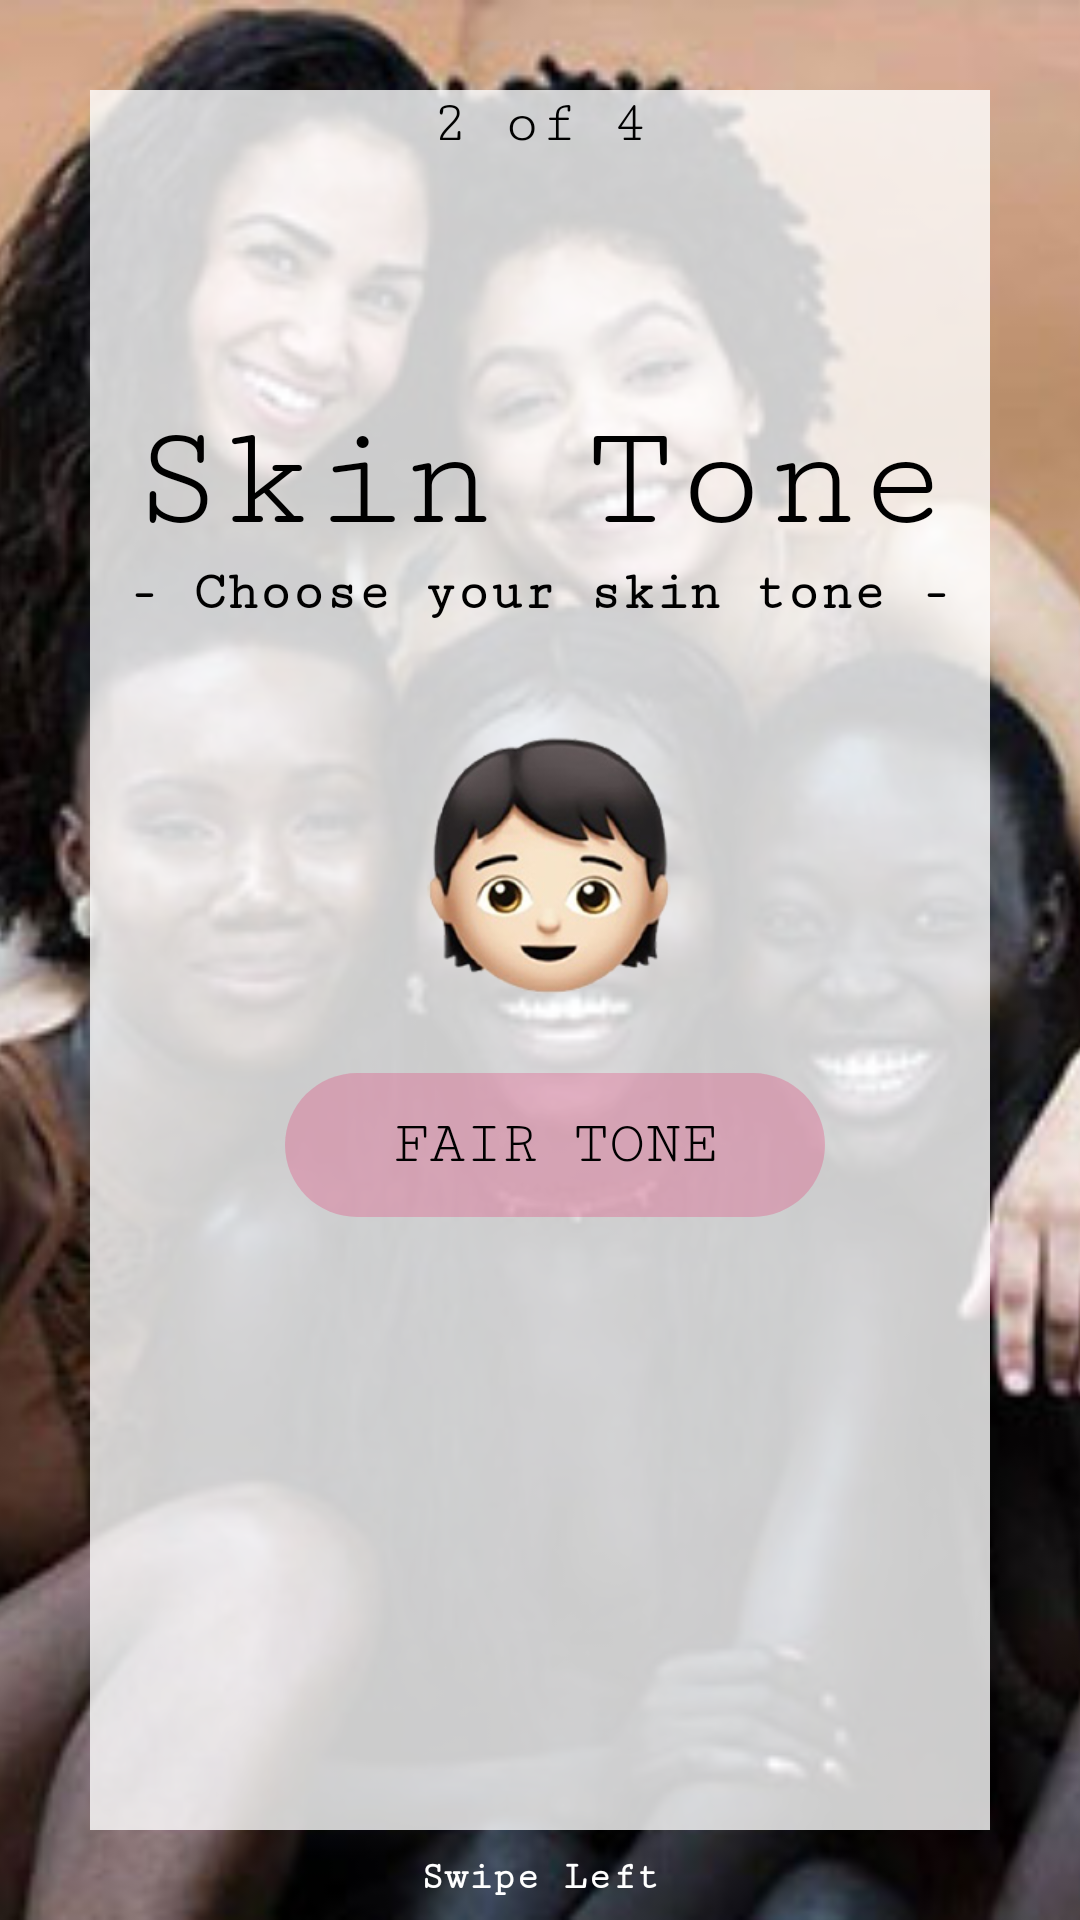

Named icons in this screenshot (1080w x 1920h) and their centers, (x,y):
female fair: (548,863)
